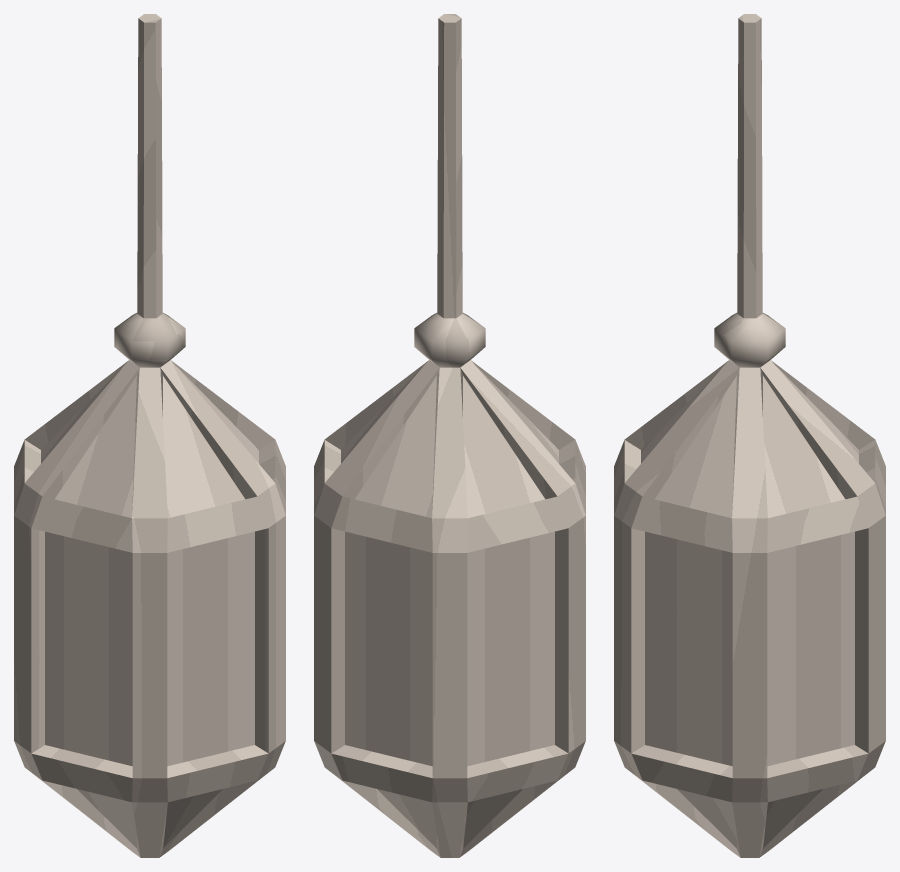
File: Props_Gem.fbx
The picture shows the model from 3 angles, left to right: view 1: azimuth 30°, elevation 25°; view 2: azimuth 150°, elevation 25°; view 3: azimuth 270°, elevation 25°; orthographic projection.
Parts seen in each view (by area): view 1: Gem; view 2: Gem; view 3: Gem.
Part boxes in pixels (bbox=[...]): Gem: bbox=[14, 14, 285, 857]; Gem: bbox=[314, 14, 585, 857]; Gem: bbox=[614, 14, 885, 857].
Size of the model in its own units: 0.4338 by 1.36 by 0.4012.
